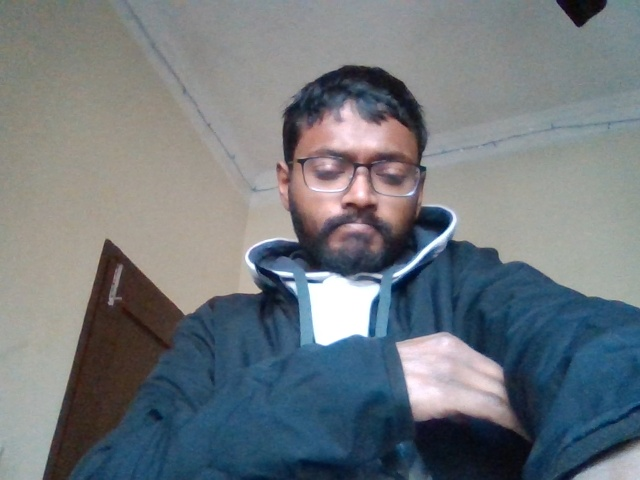evening: (381, 324, 640, 480)
